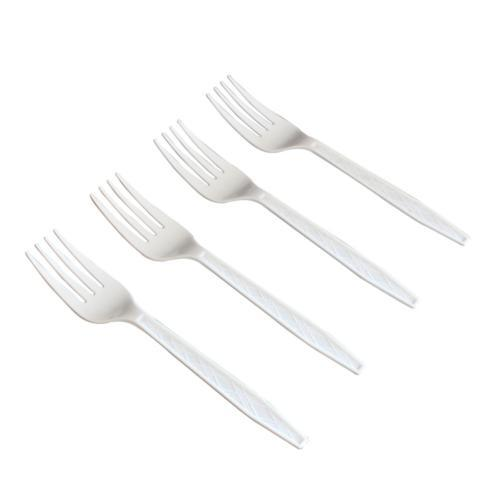Fork: (24, 228, 308, 449), (89, 172, 364, 375), (152, 119, 419, 310), (205, 73, 470, 246)
